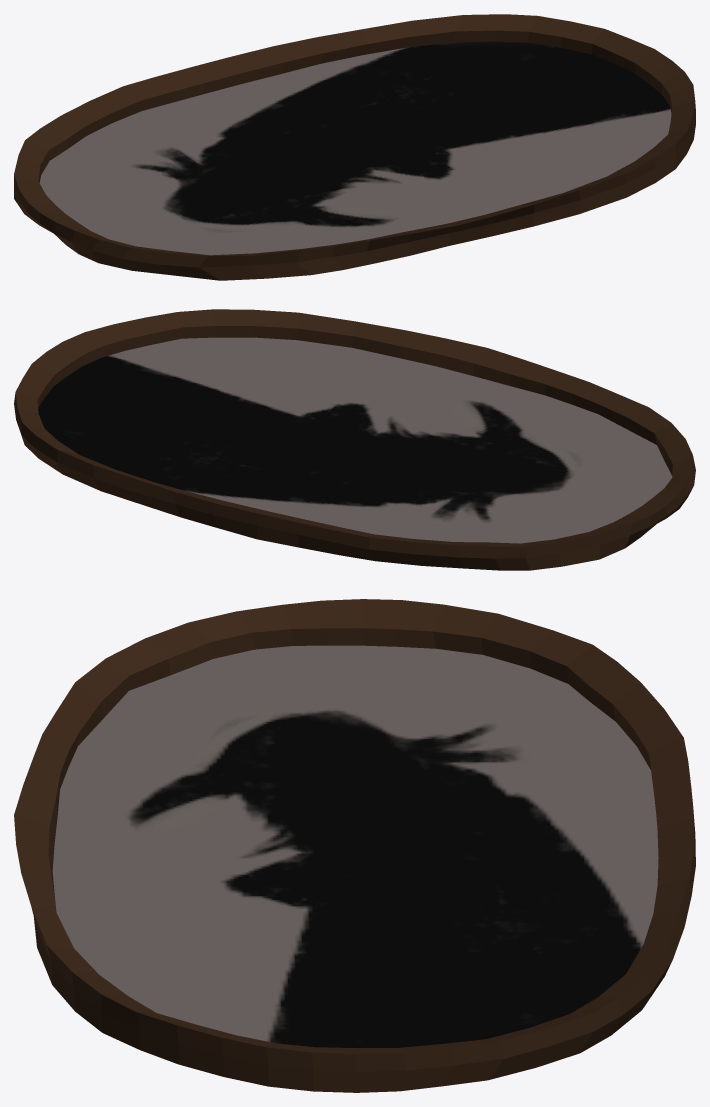
File: OvalFrame2 1.fbx
3 renders of one model, top to bottom at view 1: azimuth 30°, elevation 25°; view 2: azimuth 150°, elevation 25°; view 3: azimuth 270°, elevation 25°, orthographic. The views are drawn at different scales.
Visible parts, largest first — view 1: OvalFrame2; view 2: OvalFrame2; view 3: OvalFrame2.
Part boxes in pixels (x1,y1,x2,y2): OvalFrame2: (14, 14, 695, 280); OvalFrame2: (14, 309, 695, 570); OvalFrame2: (14, 599, 695, 1092).
Size of the model in its own units: 485 by 18.96 by 307.
